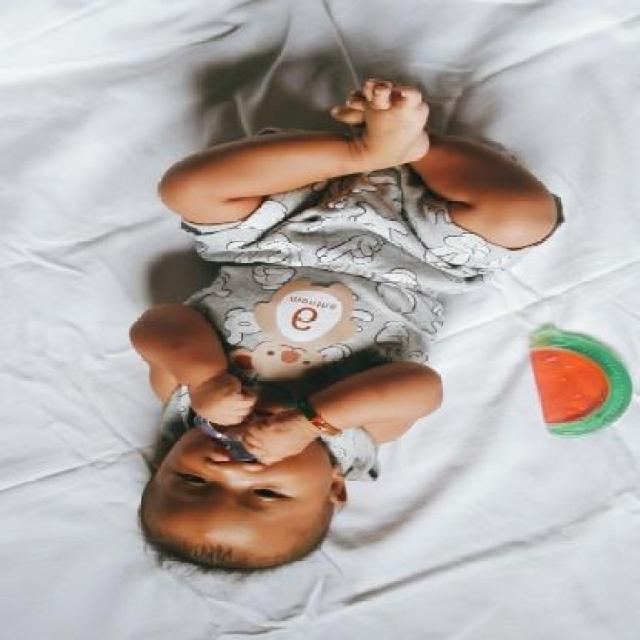baby: (128, 80, 566, 578)
